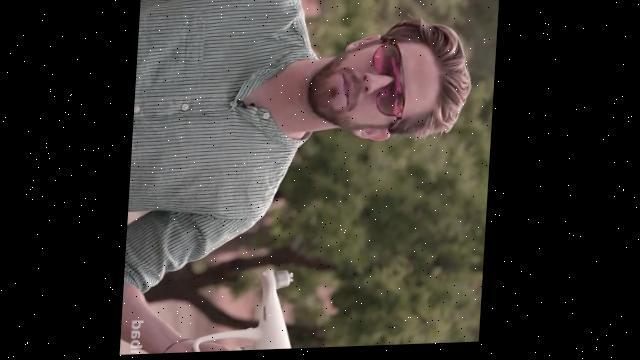drone: (177, 267, 354, 354)
